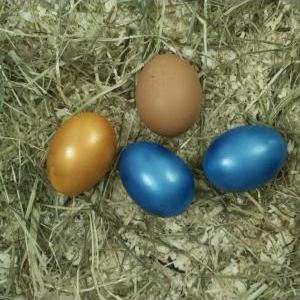egg: (48, 111, 117, 195), (119, 141, 194, 217), (203, 125, 286, 192), (135, 54, 203, 135)
